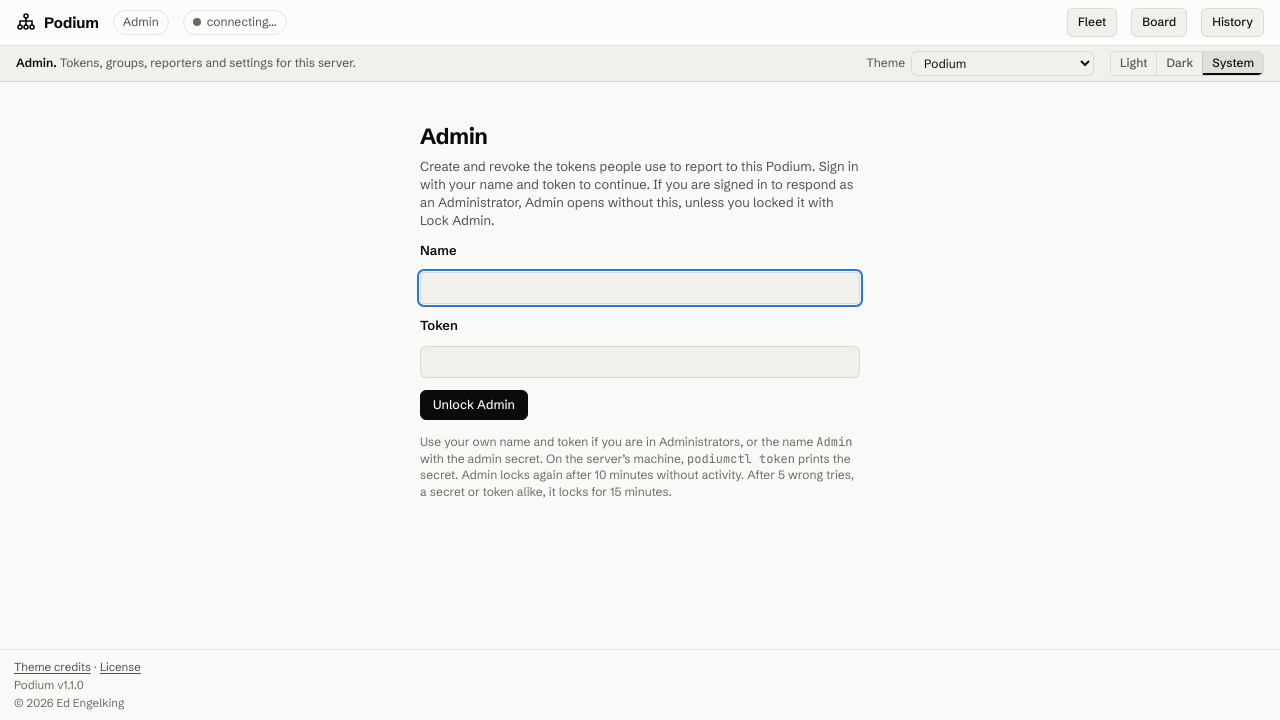
admin log retention (#303) › says how long the log is kept
Type "Priya" into the field labelled "Name" at (640, 288), box [420,272,860,304]
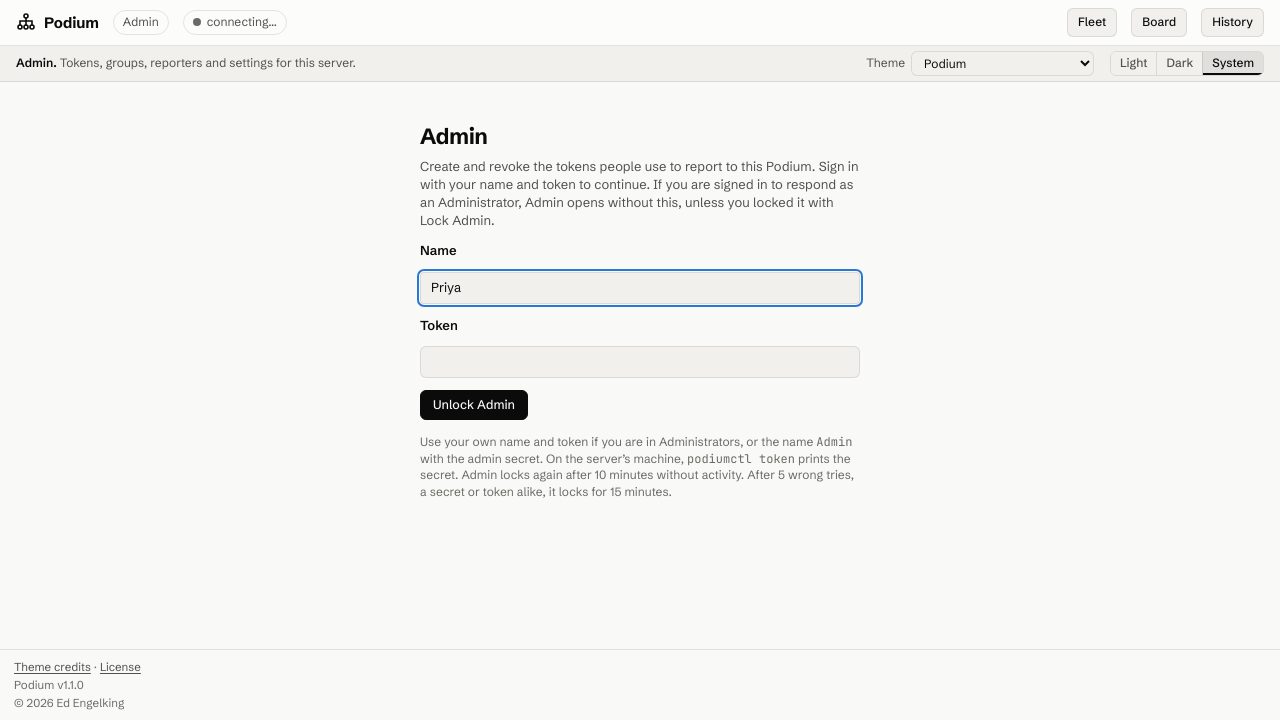
Type "right" into the password field labelled "Token" at (640, 362), box [420,346,860,378]
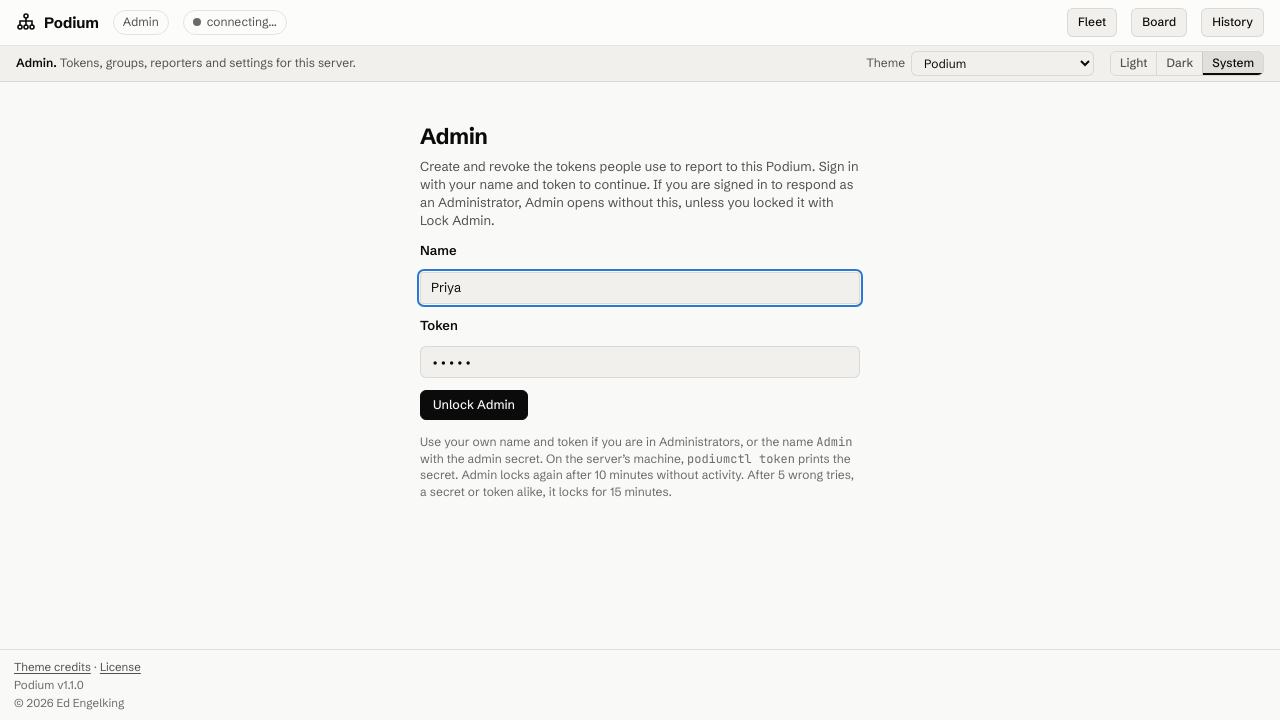
Click the button "Unlock Admin" at (474, 405), box [420,390,528,420]
(page scrolled)
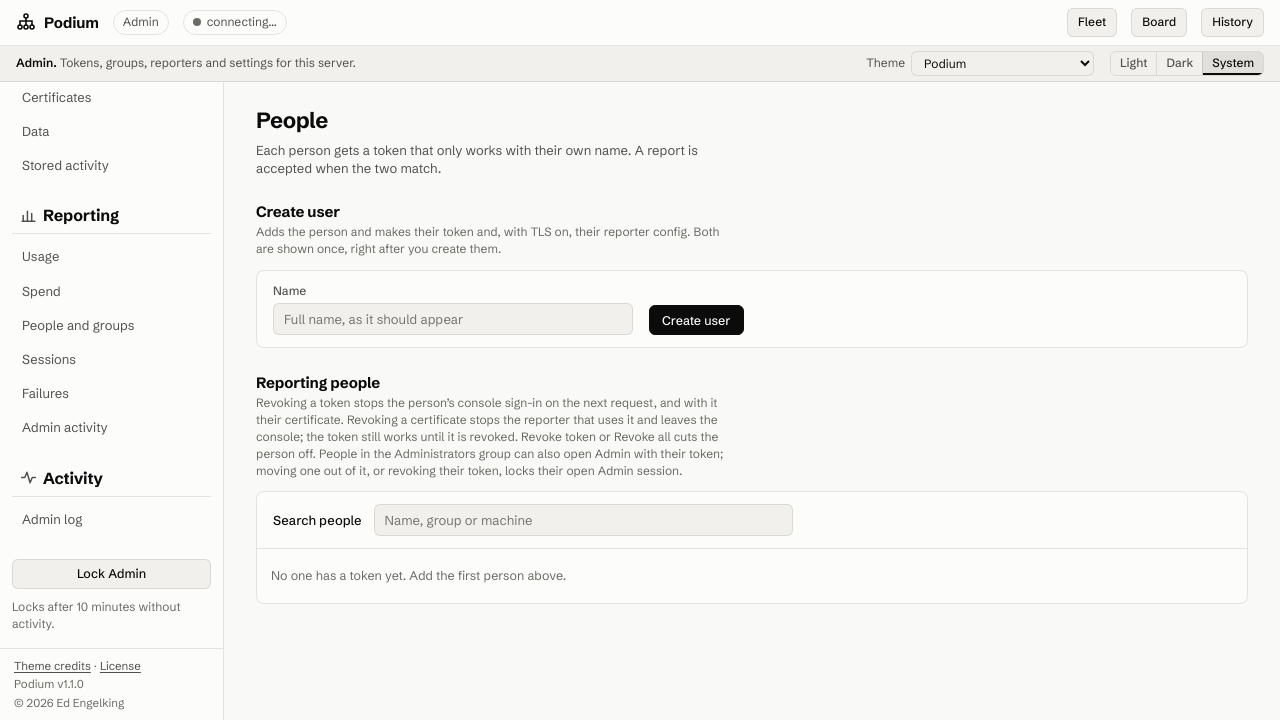
Expected: the navigation bar named "Admin sections" is shown, [0,82,224,719]
Click the button "Admin log" at (112, 519), box [12,503,211,535]
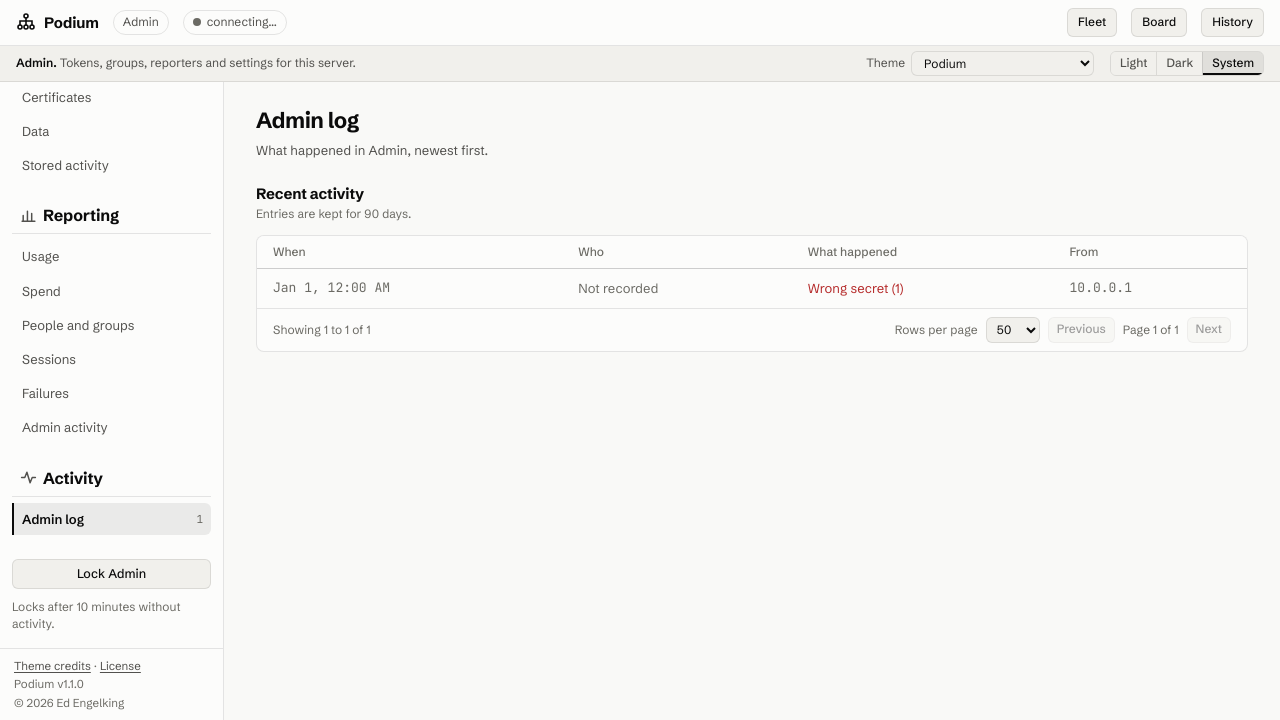
Expected: the text "Entries are kept for 90 days." is shown, [256,206,411,223]
